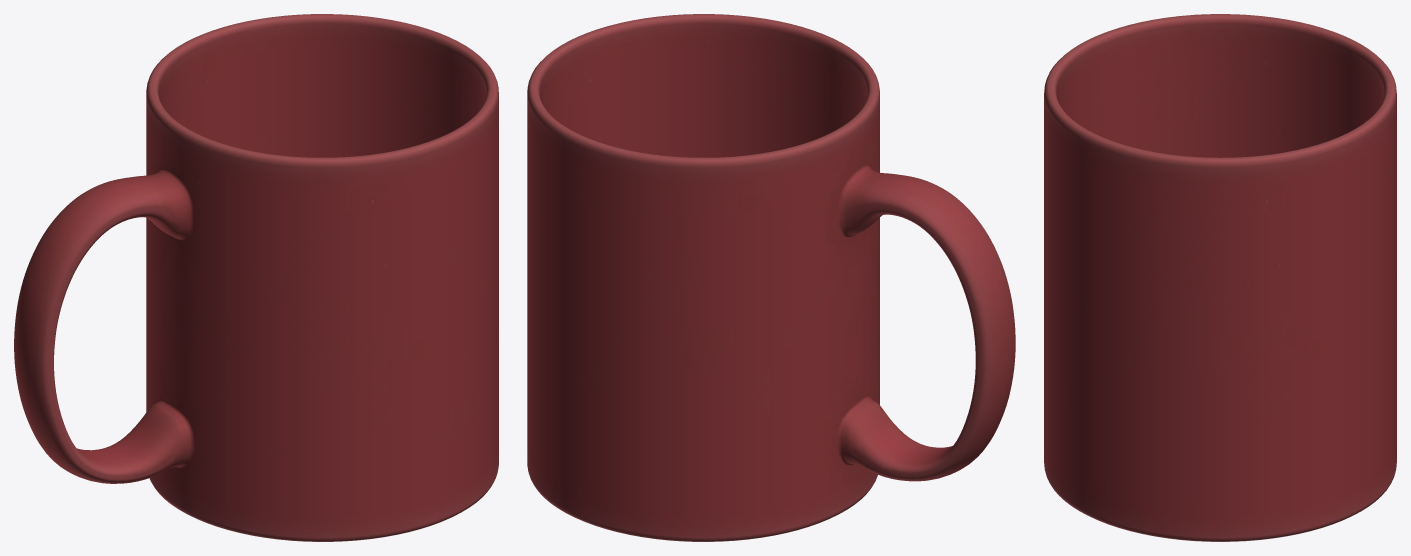
Rendered from dishware_mug_coffee_a01.glb.
3 renders of one model, left to right at view 1: azimuth 30°, elevation 25°; view 2: azimuth 150°, elevation 25°; view 3: azimuth 270°, elevation 25°, orthographic.
Visible parts, largest first — view 1: body_01_mesh_00; view 2: body_01_mesh_00; view 3: body_01_mesh_00.
Boxes of the visible parts, x1=… form: body_01_mesh_00: x1=14, y1=14, x2=498, y2=541; body_01_mesh_00: x1=527, y1=14, x2=1015, y2=541; body_01_mesh_00: x1=1044, y1=14, x2=1396, y2=541.
Size of the model in its own units: 0.1208 by 0.0972 by 0.081.
Materials: 1 (1 with a texture image).
